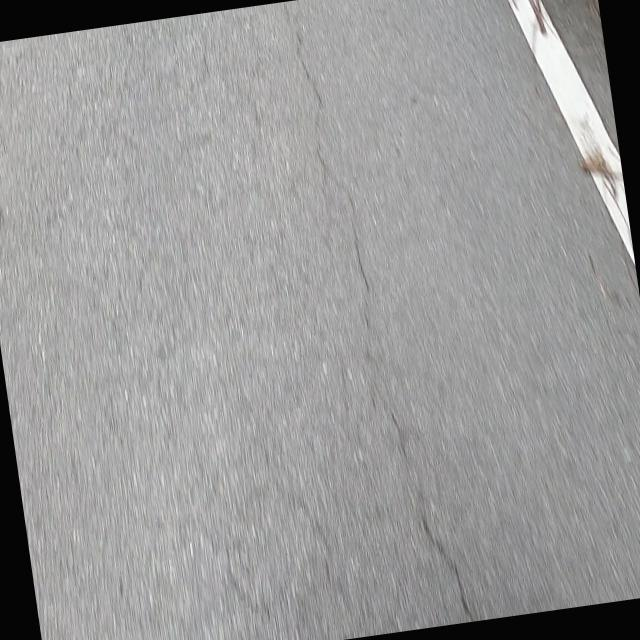Retak-Memanjang: (294, 52, 471, 622)
